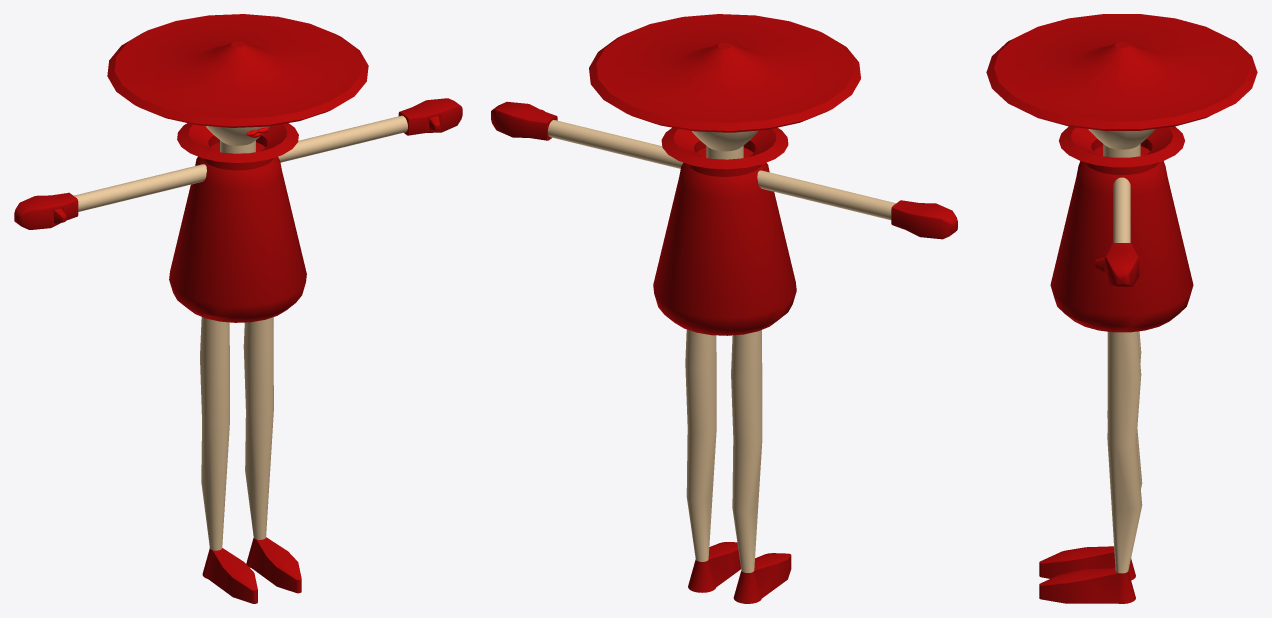
Rendered from LadyInTheRed.fbx.
3 views of the same model, side by side, from view 1: azimuth 30°, elevation 25°; view 2: azimuth 150°, elevation 25°; view 3: azimuth 270°, elevation 25° (orthographic). The views are drawn at different scales.
Visible parts, largest first — view 1: Body.003; view 2: Body.003; view 3: Body.003.
Part boxes in pixels (bbox=[...]): Body.003: bbox=[14, 14, 462, 603]; Body.003: bbox=[491, 14, 957, 603]; Body.003: bbox=[986, 14, 1257, 603].
Size of the model in its own units: 2.12 by 2.4 by 1.09.
